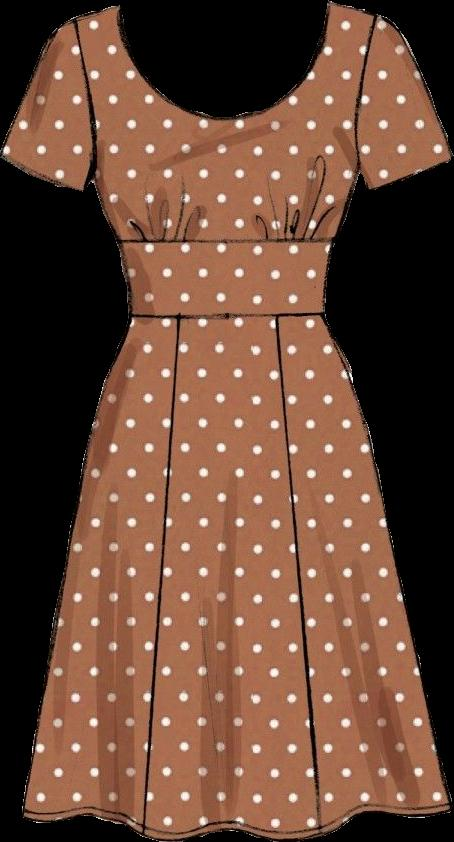Bodice: (72, 1, 379, 319)
Hemline: (21, 801, 453, 841)
Neckline: (114, 1, 336, 121), (114, 233, 335, 248)
Skirt: (23, 315, 450, 839)
Sleeve: (0, 18, 94, 191), (359, 16, 452, 188)
Sleeveline: (350, 14, 383, 161), (67, 20, 100, 166)
Waistline: (125, 311, 329, 325)
